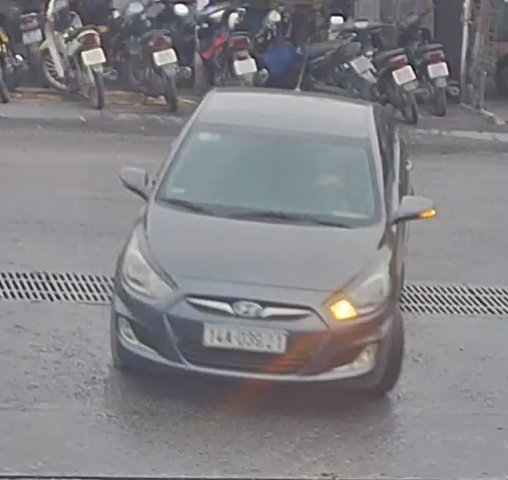vehicle plate: (202, 318, 285, 354)
